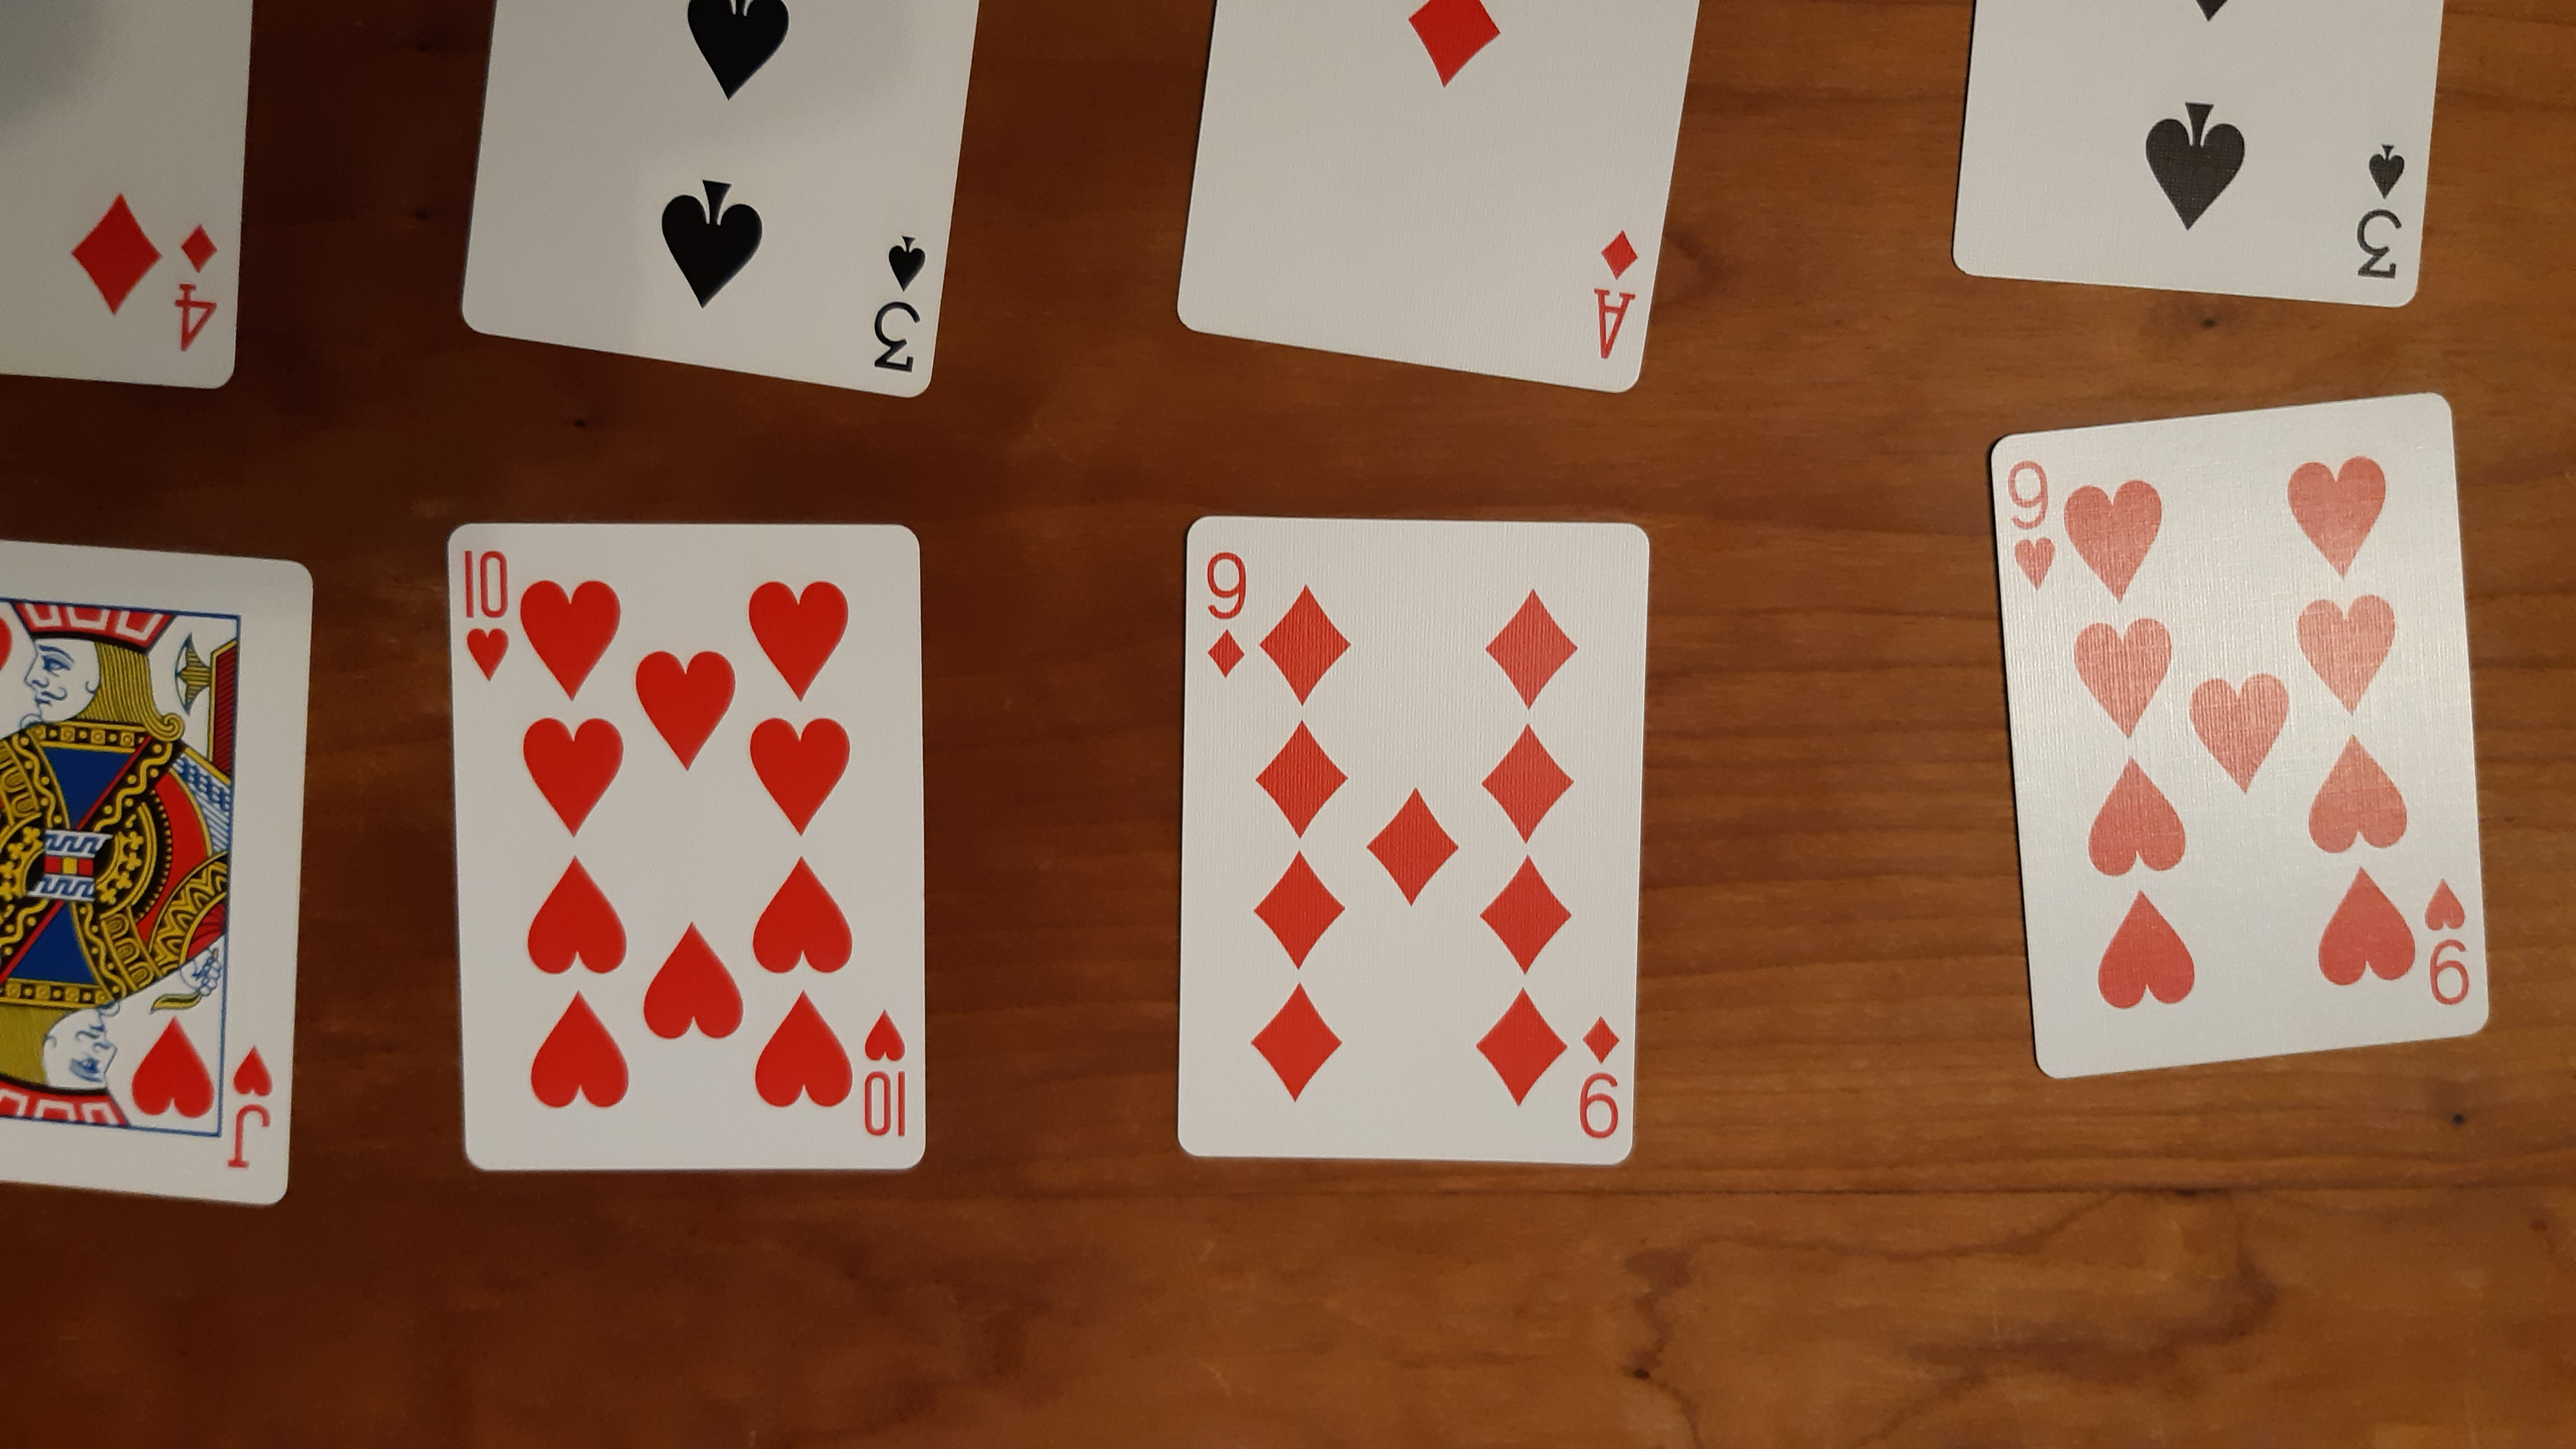Black_Spade_3: (860, 226, 931, 380), (2348, 134, 2411, 290), (1582, 225, 1642, 364)
Red_Diamond_4: (165, 221, 228, 361)
Red_Diamond_9: (1200, 545, 1629, 1148)
Red_Heart_10: (455, 547, 518, 685), (855, 998, 909, 1143)
Red_Heart_9: (2005, 442, 2475, 1019)
Red_Heart_Jack: (216, 1039, 278, 1182)
